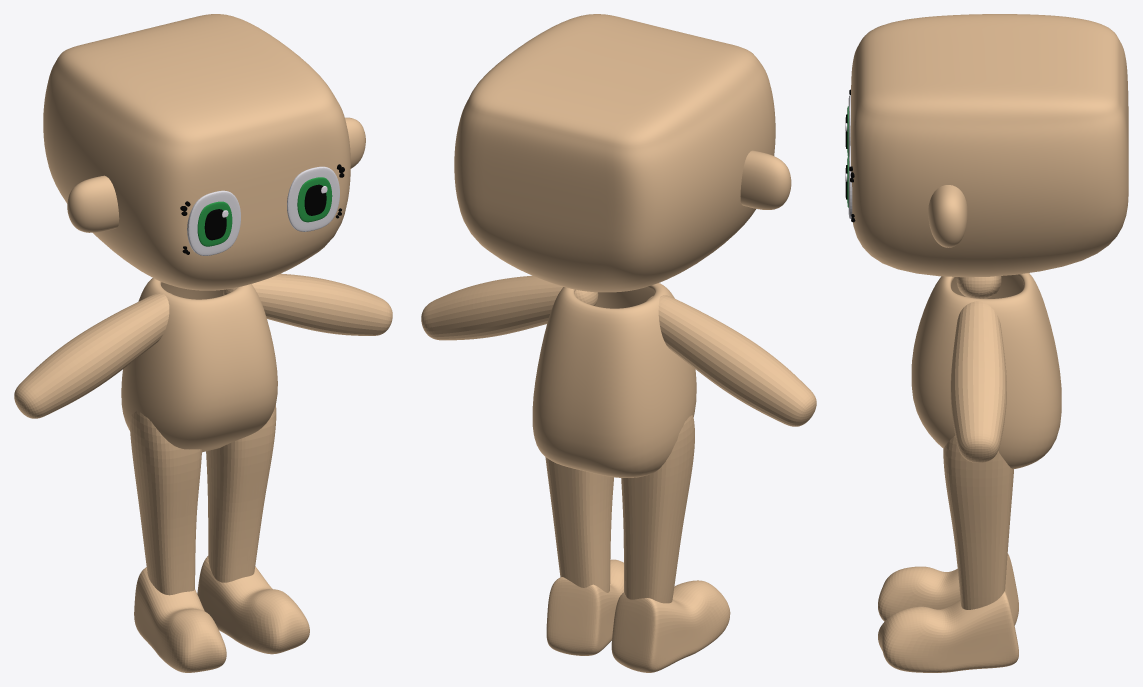
Rendered from adult.fbx.
3 views of the same model, side by side, from view 1: azimuth 30°, elevation 25°; view 2: azimuth 150°, elevation 25°; view 3: azimuth 270°, elevation 25° (orthographic). The views are drawn at different scales.
Parts seen in each view (by area): view 1: Cabeca.002, Corpo.001, Pernas.002, Bracos.002, Cube.007, Olho Todo.002, Orelhas.002, Olho Dentro.002, Pupila.002; view 2: Cabeca.002, Corpo.001, Bracos.002, Pernas.002, Cube.007, Orelhas.002; view 3: Cabeca.002, Corpo.001, Cube.007, Pernas.002, Bracos.002, Orelhas.002.
Part boxes in pixels (x1,y1,x2,y2): Cabeca.002: [43, 14, 350, 290]; Corpo.001: [121, 278, 277, 452]; Pernas.002: [130, 404, 276, 595]; Bracos.002: [14, 273, 392, 418]; Cube.007: [134, 556, 309, 672]; Olho Todo.002: [187, 166, 339, 255]; Orelhas.002: [67, 117, 365, 232]; Olho Dentro.002: [197, 177, 332, 246]; Pupila.002: [204, 184, 326, 240]; Cabeca.002: [454, 14, 775, 292]; Corpo.001: [532, 283, 696, 477]; Bracos.002: [421, 275, 816, 426]; Pernas.002: [545, 415, 694, 603]; Cube.007: [546, 559, 730, 672]; Orelhas.002: [740, 150, 791, 209]; Cabeca.002: [850, 14, 1128, 277]; Corpo.001: [911, 273, 1061, 469]; Cube.007: [878, 553, 1018, 672]; Pernas.002: [943, 436, 1013, 609]; Bracos.002: [950, 276, 1006, 462]; Orelhas.002: [928, 185, 967, 247].
Size of the model in its own units: 122 by 178 by 77.34.
